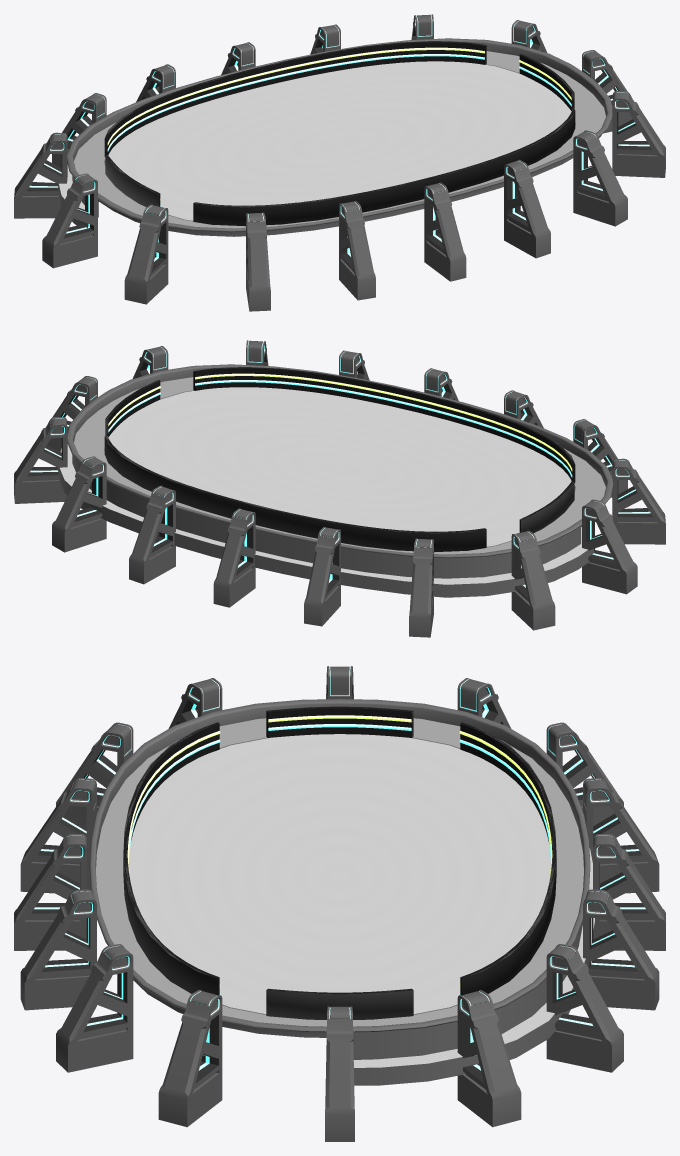
Rendered from mesh_RooftopArena_WallCrown.fbx.
3 renders of one model, top to bottom at view 1: azimuth 30°, elevation 25°; view 2: azimuth 150°, elevation 25°; view 3: azimuth 270°, elevation 25°, orthographic. The views are drawn at different scales.
Parts seen in each view (by area): view 1: mesh_floorStructure, Cube.003, mesh_RTA_H_Circles.005, mesh_wallSpline_Top, mesh_wallSpline_Coll_Bot, mesh_wallSpline_Right, mesh_wallSpline_Coll_Left, mesh_wallSpline_Bottom; view 2: mesh_floorStructure, Cube.003, mesh_RTA_H_Circles.005, mesh_wallSpline_Bottom, mesh_wallSpline_Coll_Top, mesh_wallSpline_Right, mesh_wallSpline_Coll_Left, mesh_wallSpline_Top; view 3: mesh_floorStructure, Cube.003, mesh_RTA_H_Circles.005, mesh_wallSpline_Left, mesh_wallSpline_Coll_Right, mesh_wallSpline_Top, mesh_wallSpline_Bottom, mesh_wallSpline_Coll_Bot, mesh_wallSpline_Coll_Top.
Boxes of the visible parts, bbox=[...] form: mesh_floorStructure: bbox=[58, 38, 612, 236]; Cube.003: bbox=[14, 14, 665, 311]; mesh_RTA_H_Circles.005: bbox=[113, 65, 571, 217]; mesh_wallSpline_Top: bbox=[104, 41, 486, 156]; mesh_wallSpline_Coll_Bot: bbox=[193, 110, 575, 226]; mesh_wallSpline_Right: bbox=[519, 54, 574, 110]; mesh_wallSpline_Coll_Left: bbox=[105, 155, 158, 207]; mesh_wallSpline_Bottom: bbox=[194, 110, 574, 206]; mesh_floorStructure: bbox=[58, 364, 612, 597]; Cube.003: bbox=[14, 340, 665, 637]; mesh_RTA_H_Circles.005: bbox=[108, 391, 566, 543]; mesh_wallSpline_Bottom: bbox=[193, 367, 575, 482]; mesh_wallSpline_Coll_Top: bbox=[104, 436, 486, 552]; mesh_wallSpline_Right: bbox=[106, 380, 160, 436]; mesh_wallSpline_Coll_Left: bbox=[519, 481, 574, 533]; mesh_wallSpline_Top: bbox=[106, 438, 485, 532]; mesh_floorStructure: bbox=[89, 699, 595, 1085]; Cube.003: bbox=[14, 666, 665, 1141]; mesh_RTA_H_Circles.005: bbox=[129, 734, 550, 1013]; mesh_wallSpline_Left: bbox=[266, 706, 413, 737]; mesh_wallSpline_Coll_Right: bbox=[266, 989, 413, 1019]; mesh_wallSpline_Top: bbox=[459, 722, 556, 995]; mesh_wallSpline_Bottom: bbox=[123, 722, 220, 995]; mesh_wallSpline_Coll_Bot: bbox=[123, 725, 219, 994]; mesh_wallSpline_Coll_Top: bbox=[460, 723, 556, 994].
Size of what is drawn, in the model's own units: 78.56 by 9.93 by 55.13.
